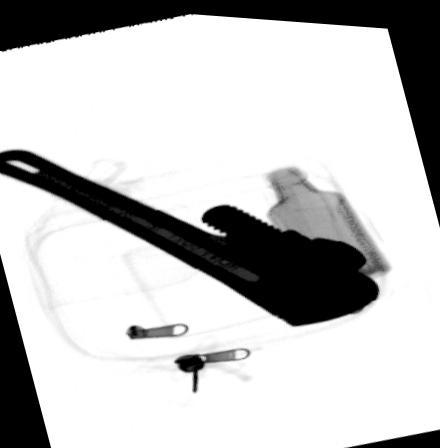Wrench: (0, 148, 383, 326)
